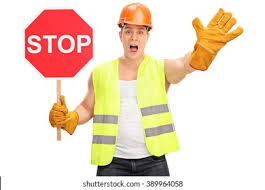stop sign: (21, 7, 97, 78)
